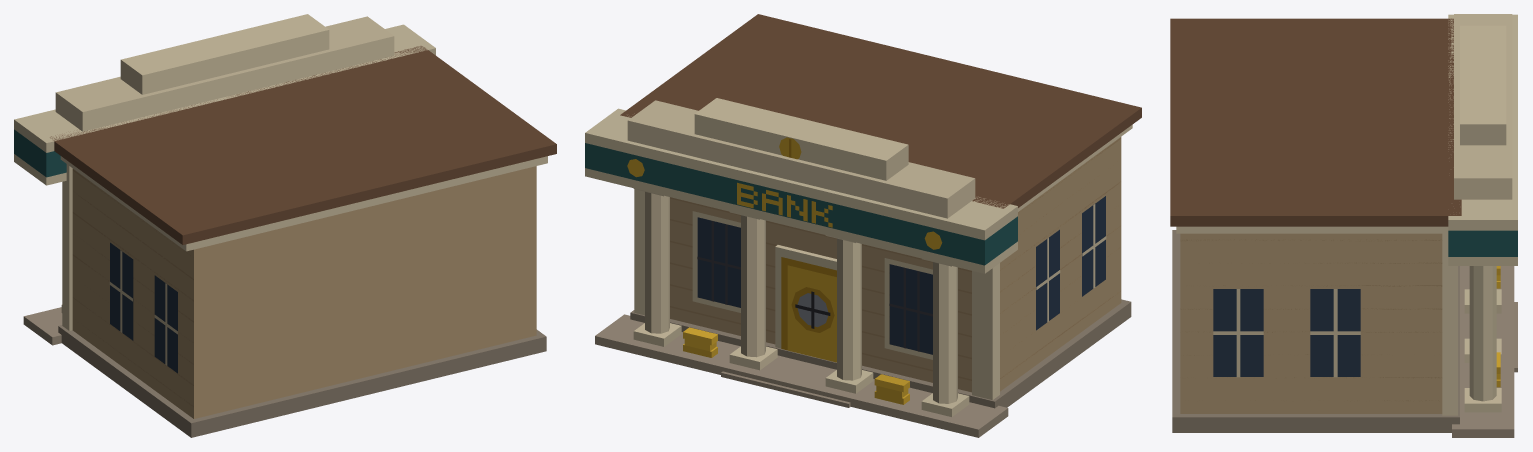
File: Decor_WesternSaloon_Bank.fbx
The picture shows the model from 3 angles, left to right: view 1: azimuth 30°, elevation 25°; view 2: azimuth 150°, elevation 25°; view 3: azimuth 270°, elevation 25°; orthographic projection. The views are drawn at different scales.
Parts seen in each view (by area): view 1: Bank_Body; view 2: Bank_Body; view 3: Bank_Body.
Boxes of the visible parts, x1=… form: Bank_Body: x1=14, y1=14, x2=556, y2=437; Bank_Body: x1=585, y1=14, x2=1141, y2=437; Bank_Body: x1=1170, y1=14, x2=1517, y2=437.
Size of the model in its own units: 25 by 15 by 17.9.
